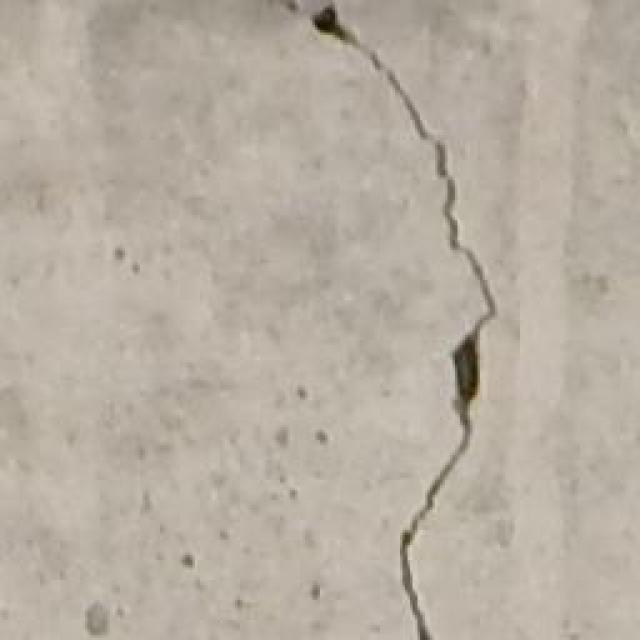concrete-crack: (280, 0, 498, 640)
